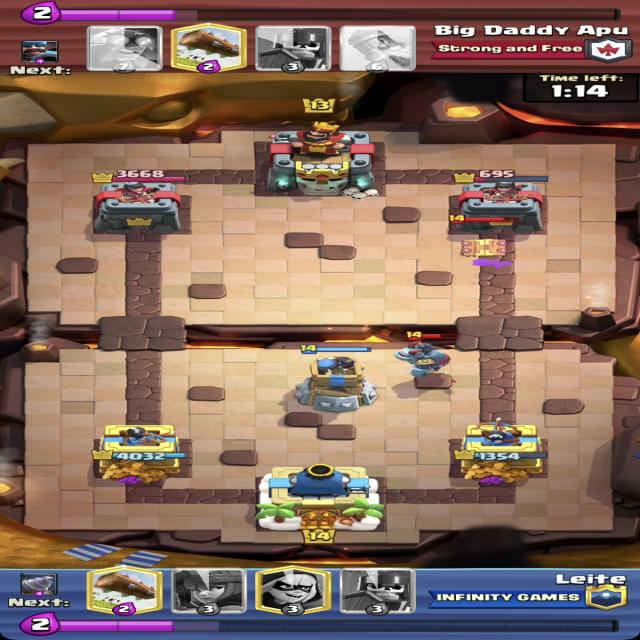Enemy-MegaMinion: (396, 331, 461, 377)
Enemy-Tesla-Hidden: (447, 214, 521, 257)
Player-BombTower: (294, 344, 378, 412)
